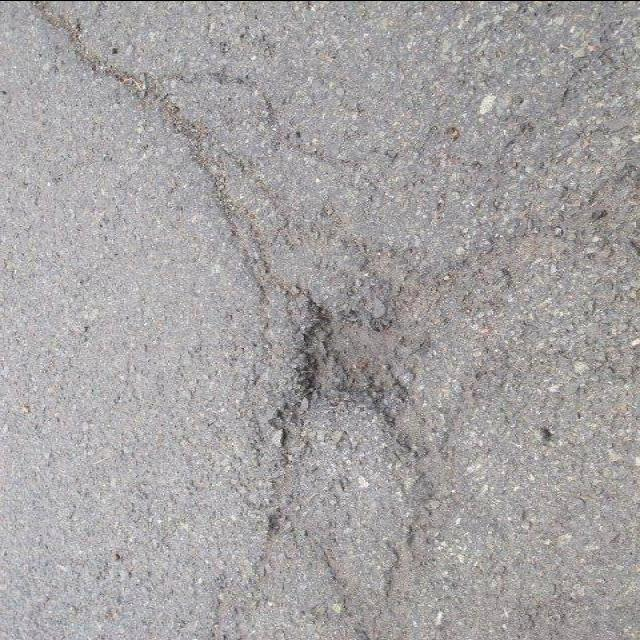lubang: (302, 296, 388, 411)
